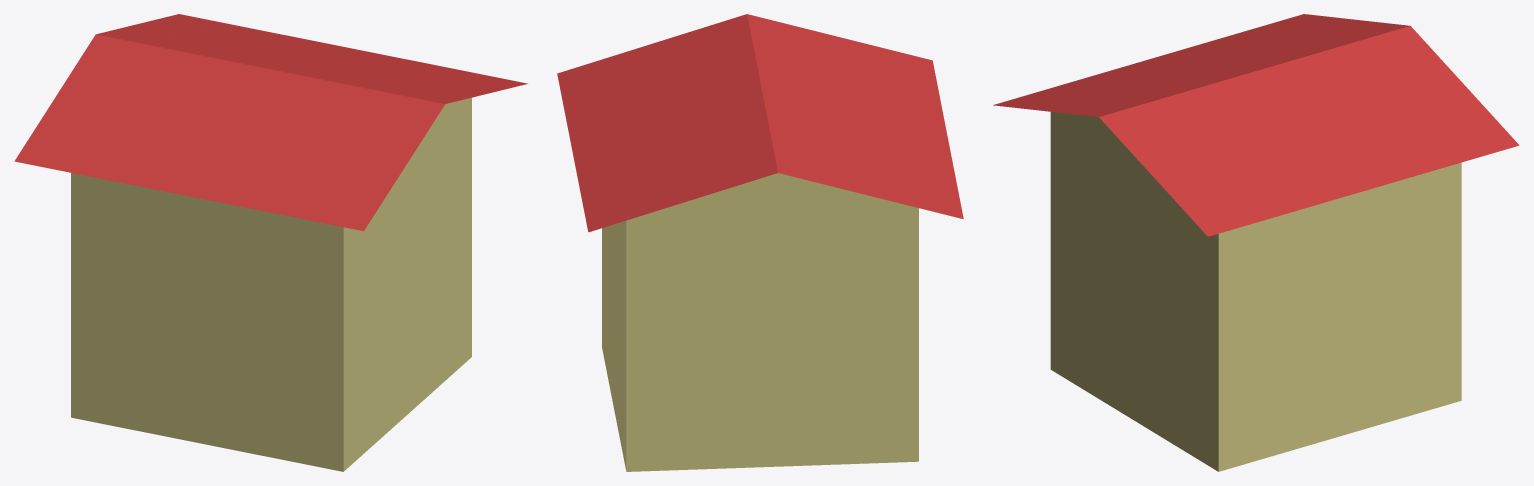
3 renders of one model, left to right at view 1: azimuth 30°, elevation 25°; view 2: azimuth 150°, elevation 25°; view 3: azimuth 270°, elevation 25°, orthographic. The views are drawn at different scales.
Bounding box in the file's own units: 18.89 × 18.9 × 12.37.
